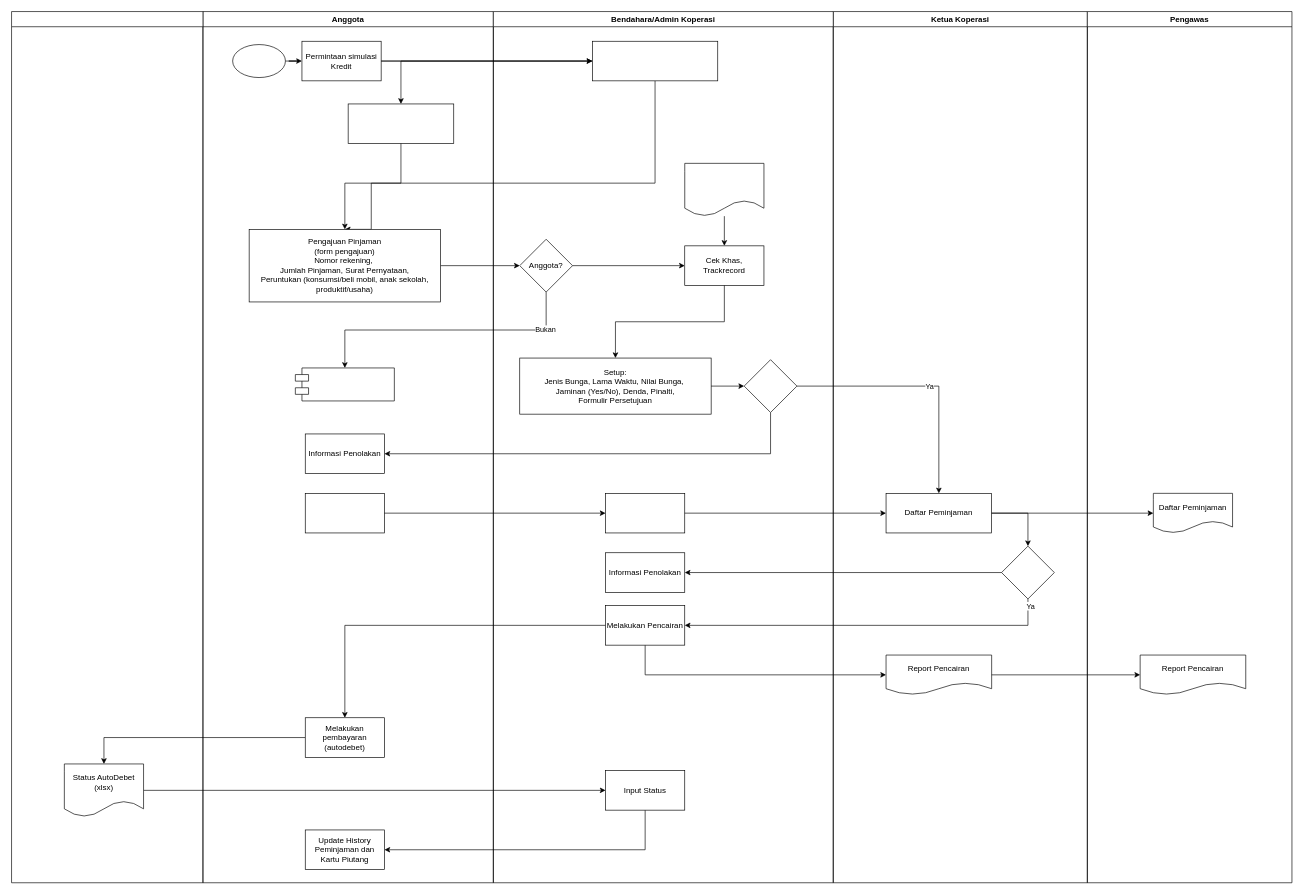
The diagram is 1304 pixels wide and 894 high, and some of its shapes have lost their labels. Here are the shapes that lost their labels. From the top down, the centre of each, then its label:
the point at 258,61: Mulai
the point at 655,61: Proses Simulasi Tabel berdasarkan Pinjaman (Custom)
the point at 400,123: Proses Simulasi Tabel berdasarkan Pinjaman (Default)
the point at 724,189: Kartu Piutang Anggota
the point at 344,384: Module Daftar Anggota
the point at 770,385: Berkas Lengkap
the point at 107,447: Vertical Container
the point at 344,513: Pembatalan Peminjaman
the point at 645,513: Input Pembatan
the point at 1027,572: Pilih & Setujui?
